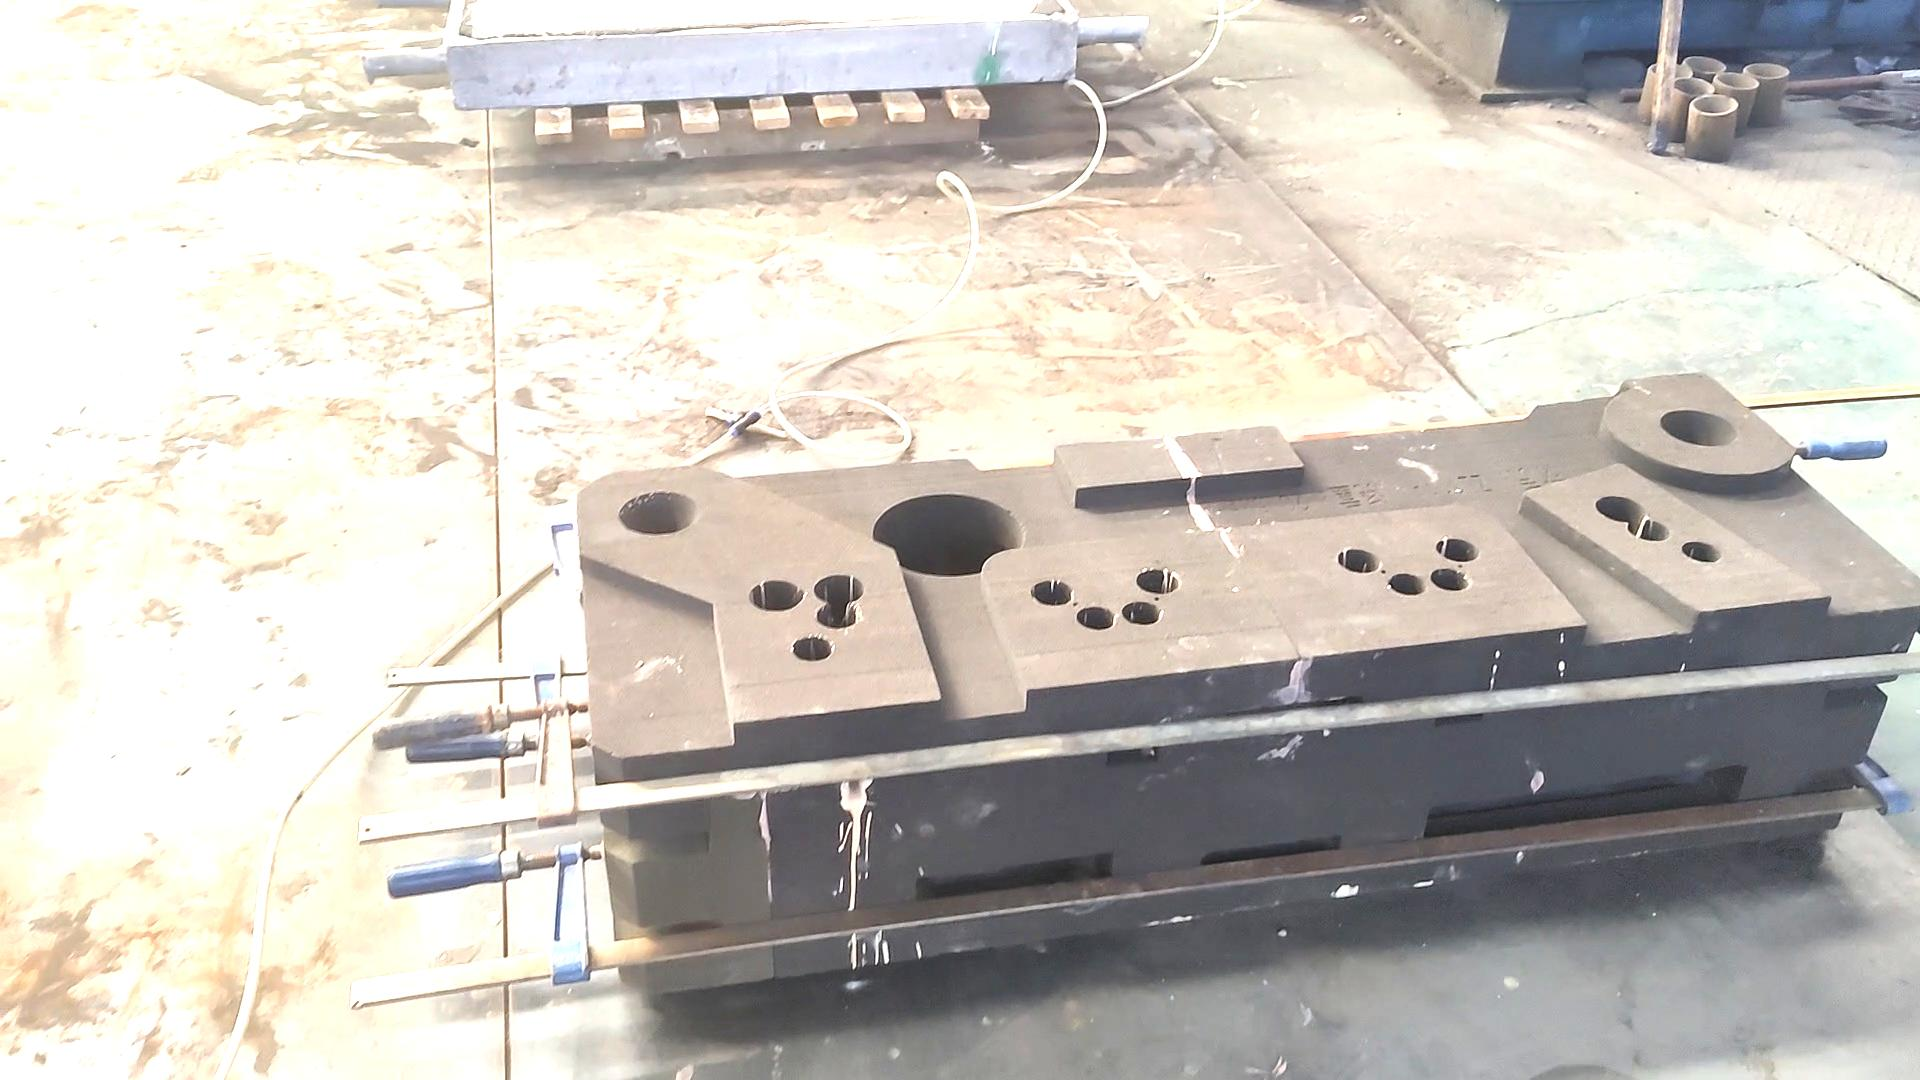pouring hole: (620, 489, 698, 535), (1660, 409, 1737, 446), (1692, 94, 1737, 115), (1685, 54, 1726, 73), (1745, 63, 1791, 79), (1650, 62, 1692, 79), (1671, 78, 1713, 95), (1716, 73, 1759, 88)
